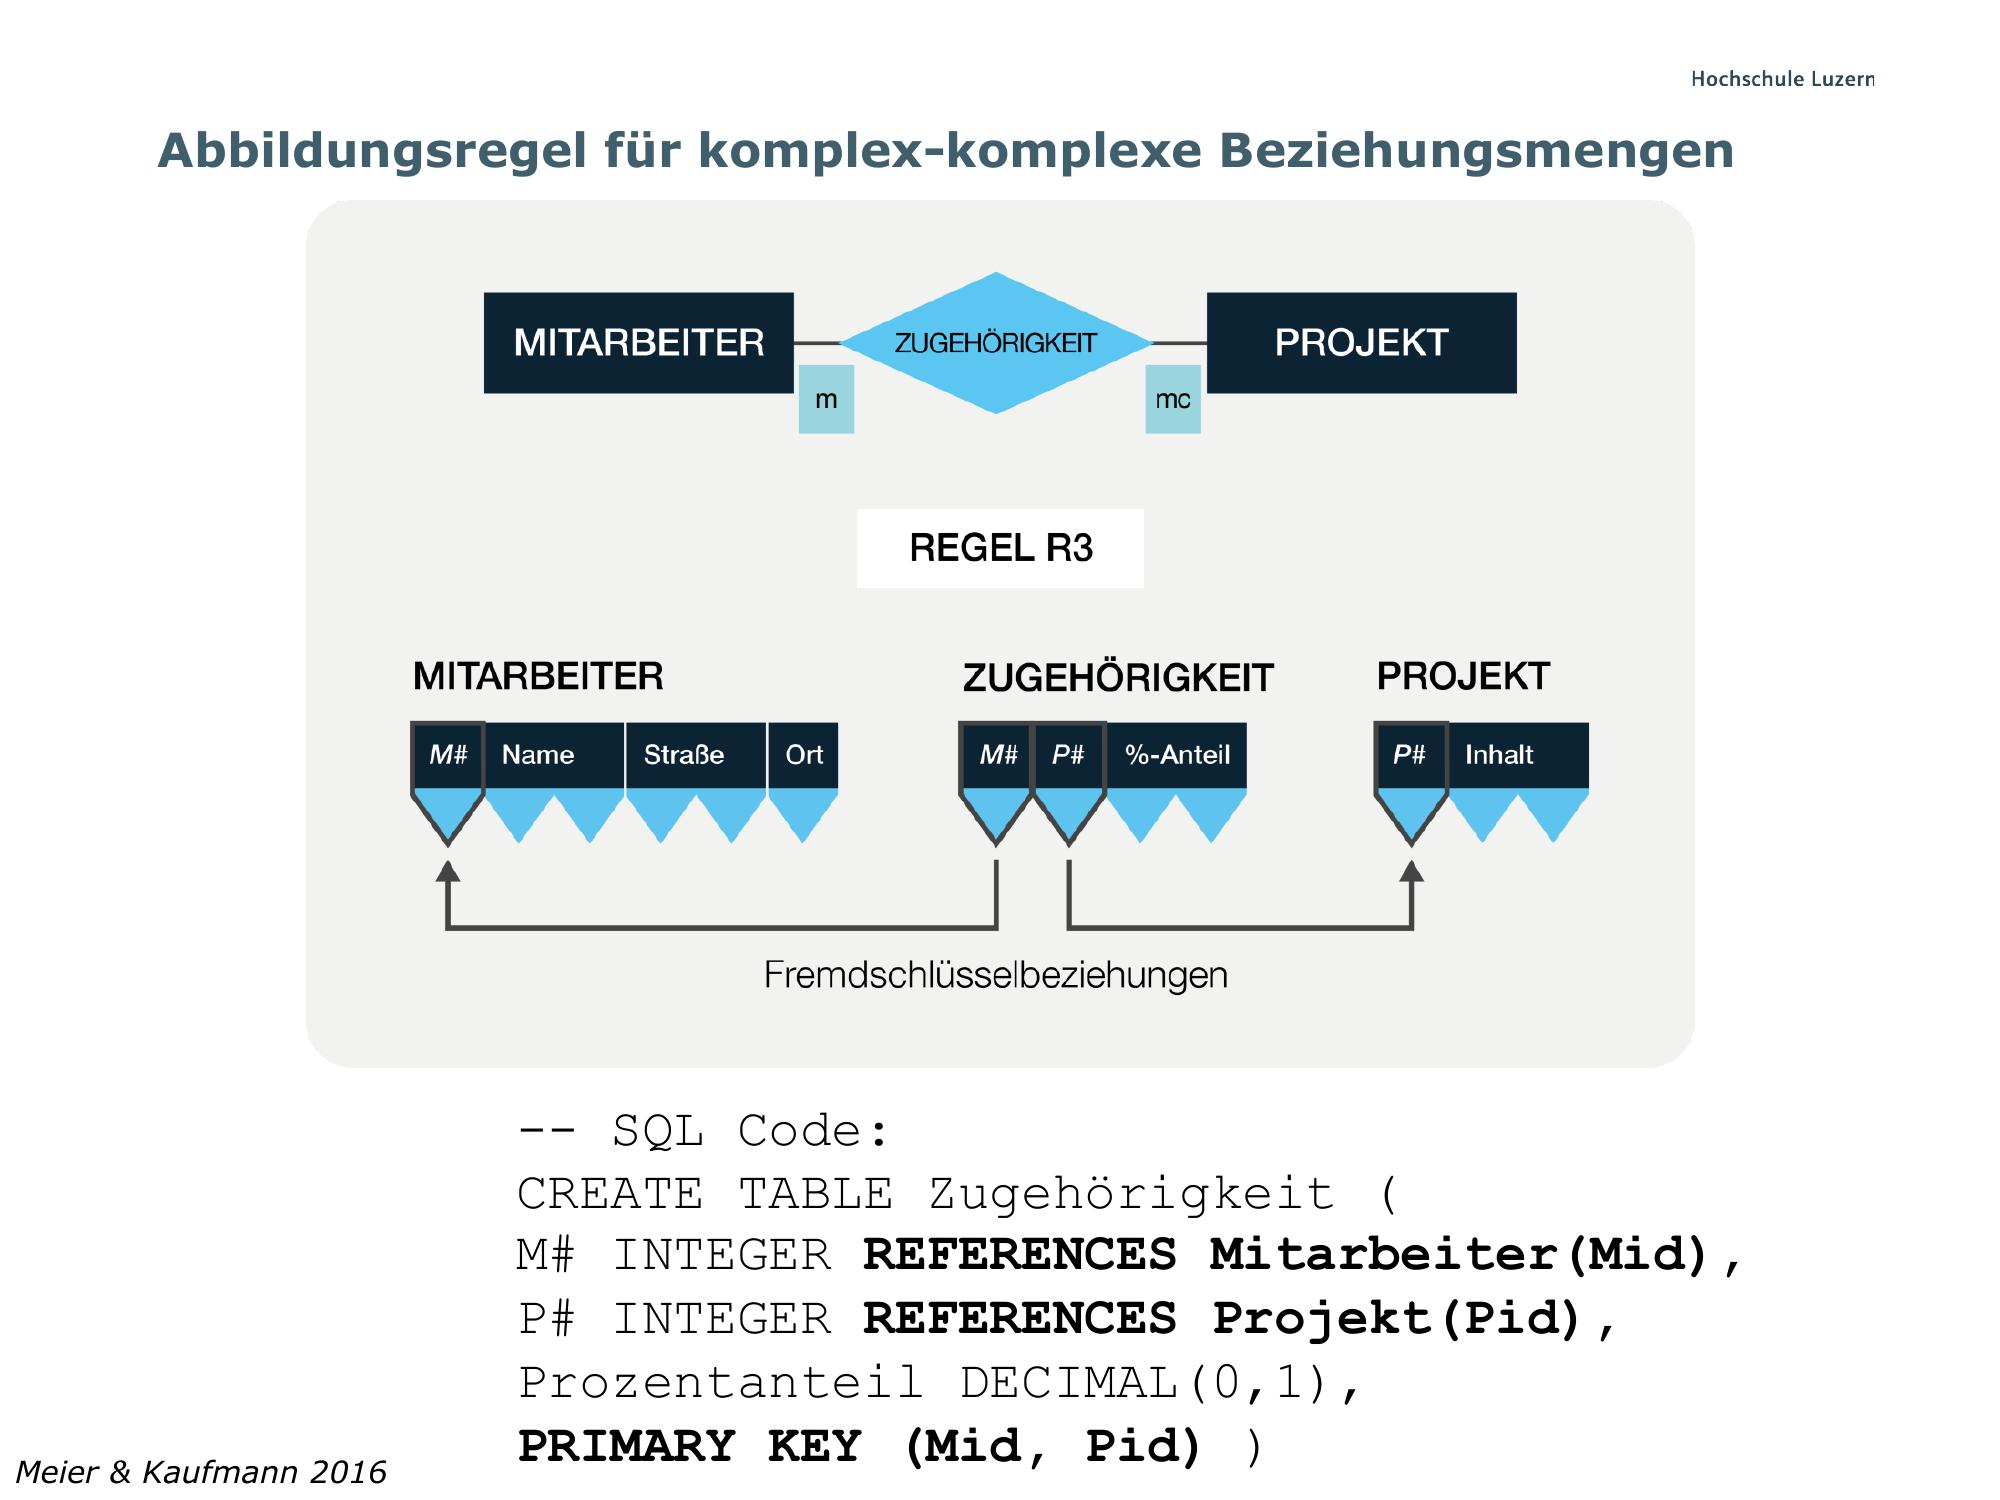Title: (150, 110, 1750, 183)
